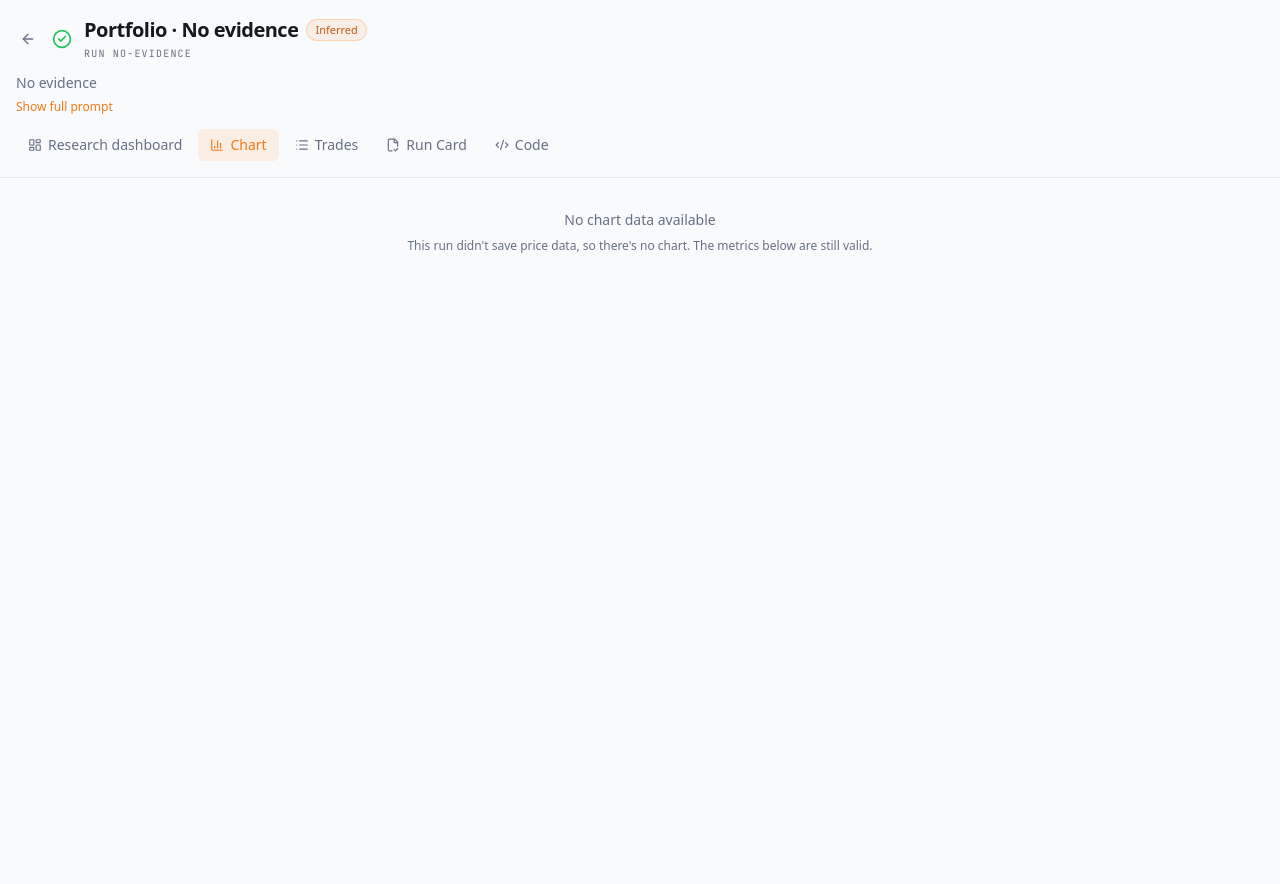
Scenario: RunDetail page › explicitly reports absent evidence for v0 cards
Click the tab "Run Card" at (427,145), box [374,129,479,161]
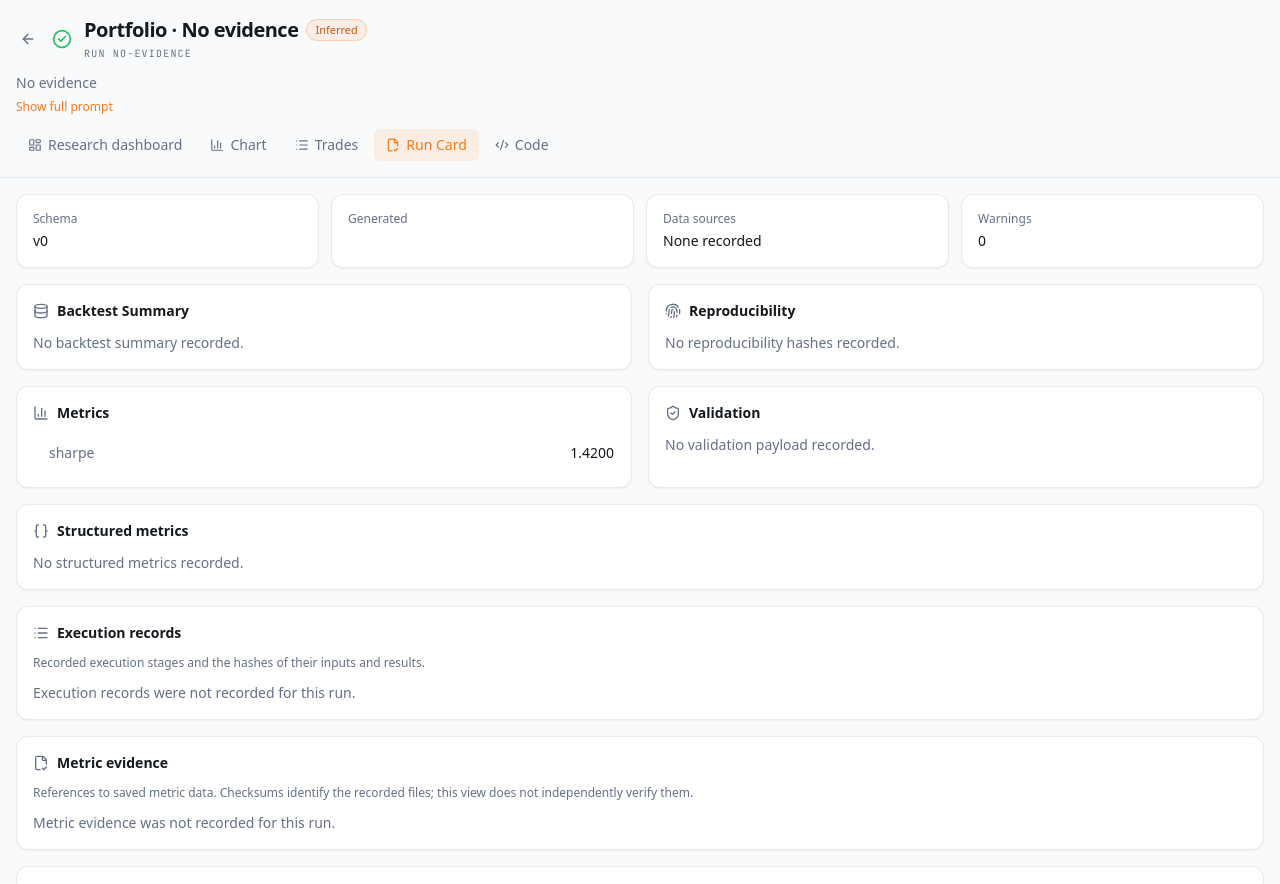
Expected: the text "Execution records were not recorded for this run." is shown, [33,683,356,702]
Expected: the text "Metric evidence was not recorded for this run." is shown, [33,813,335,832]
Expected: the text "1.4200" is shown, [177,435,615,471]
